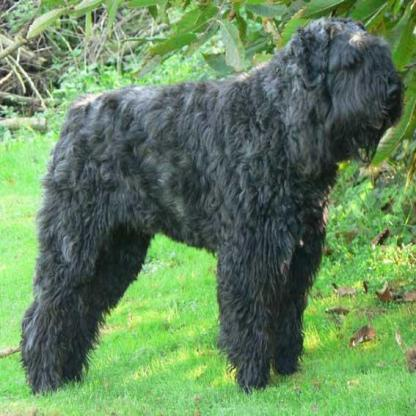Bouvier_des_Flandres: (18, 13, 406, 395)
